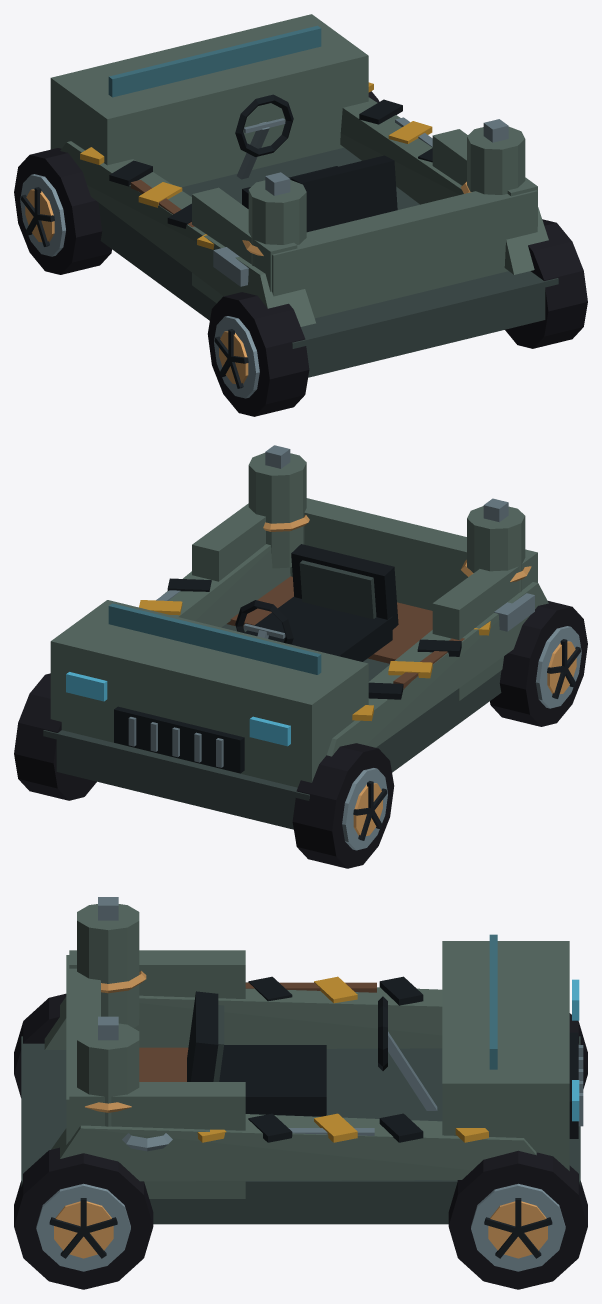
The model's file is kart.glb.
The picture shows the model from 3 angles, top to bottom: view 1: azimuth 30°, elevation 25°; view 2: azimuth 150°, elevation 25°; view 3: azimuth 270°, elevation 25°; orthographic projection. The views are drawn at different scales.
Visible parts, largest first — view 1: identity-truck-truck-utility-body, wheel-rear-left, wheel-front-left, identity-truck-motif-tanks, identity-truck-driver-cockpit, wheel-rear-right, identity-truck-motif-hazard-stripes, identity-truck-motif-tools; view 2: identity-truck-truck-utility-body, identity-truck-driver-cockpit, wheel-front-left, identity-truck-motif-tanks, wheel-rear-left, wheel-front-right, identity-truck-motif-hazard-stripes, identity-truck-motif-tools; view 3: identity-truck-truck-utility-body, wheel-front-right, wheel-rear-right, identity-truck-motif-tanks, identity-truck-driver-cockpit, identity-truck-motif-hazard-stripes, wheel-rear-left, identity-truck-motif-tools.
Boxes of the visible parts, bbox=[...] form: identity-truck-truck-utility-body: bbox=[50, 14, 558, 377]; wheel-rear-left: bbox=[207, 292, 309, 416]; wheel-front-left: bbox=[14, 148, 111, 274]; identity-truck-motif-tanks: bbox=[242, 119, 525, 266]; identity-truck-driver-cockpit: bbox=[235, 94, 397, 232]; wheel-rear-right: bbox=[505, 219, 587, 348]; identity-truck-motif-hazard-stripes: bbox=[80, 82, 432, 249]; identity-truck-motif-tools: bbox=[130, 117, 432, 286]; identity-truck-truck-utility-body: bbox=[43, 498, 548, 829]; identity-truck-driver-cockpit: bbox=[235, 544, 398, 661]; wheel-front-left: bbox=[292, 743, 394, 868]; identity-truck-motif-tanks: bbox=[248, 445, 531, 592]; wheel-rear-left: bbox=[490, 601, 587, 726]; wheel-front-right: bbox=[14, 673, 96, 800]; identity-truck-motif-hazard-stripes: bbox=[139, 578, 490, 720]; identity-truck-motif-tools: bbox=[156, 590, 534, 689]; identity-truck-truck-utility-body: bbox=[21, 934, 583, 1224]; wheel-front-right: bbox=[448, 1150, 587, 1289]; wheel-rear-right: bbox=[14, 1147, 153, 1289]; identity-truck-motif-tanks: bbox=[77, 897, 146, 1126]; identity-truck-driver-cockpit: bbox=[187, 991, 437, 1116]; identity-truck-motif-hazard-stripes: bbox=[197, 976, 488, 1142]; wheel-rear-left: bbox=[14, 993, 66, 1097]; identity-truck-motif-tools: bbox=[122, 982, 376, 1151].
Bounding box in the file's own units: 2.13 × 1.3 × 2.8.
